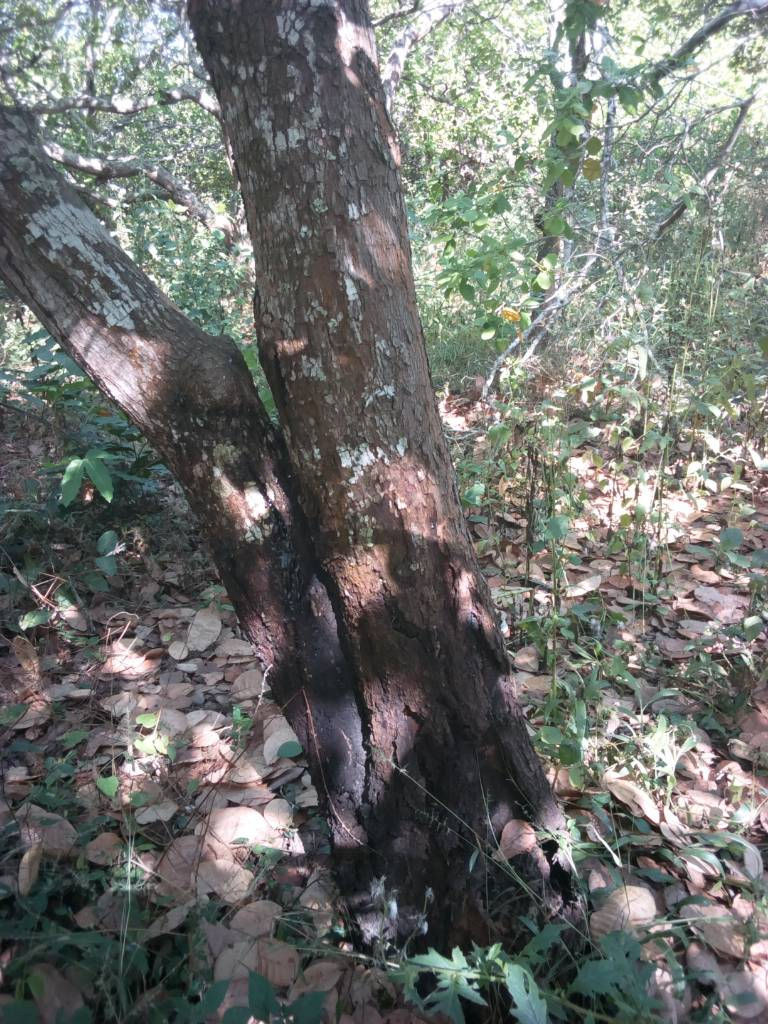Gommose: (286, 528, 530, 897)
